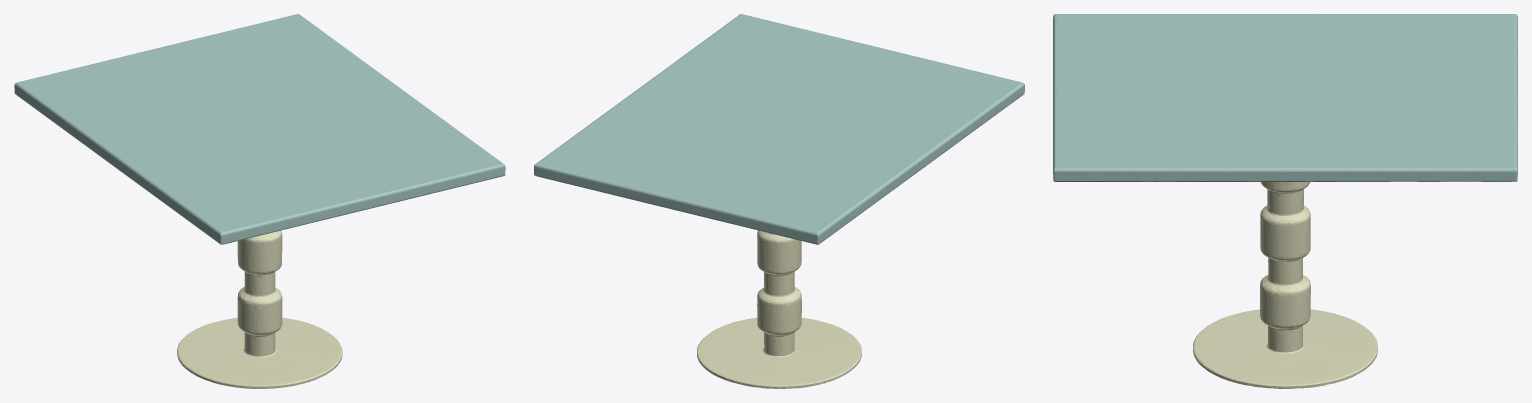
The model's file is table.glb.
The picture shows the model from 3 angles, left to right: view 1: azimuth 30°, elevation 25°; view 2: azimuth 150°, elevation 25°; view 3: azimuth 270°, elevation 25°; orthographic projection. The views are drawn at different scales.
Visible parts, largest first — view 1: world; view 2: world; view 3: world.
Part boxes in pixels (box(x1,y1,x2,y2)): world: box(14, 14, 505, 388); world: box(534, 14, 1024, 388); world: box(1053, 14, 1517, 388).
Bounding box in the file's own units: 1.52 × 1.18 × 1.91.
